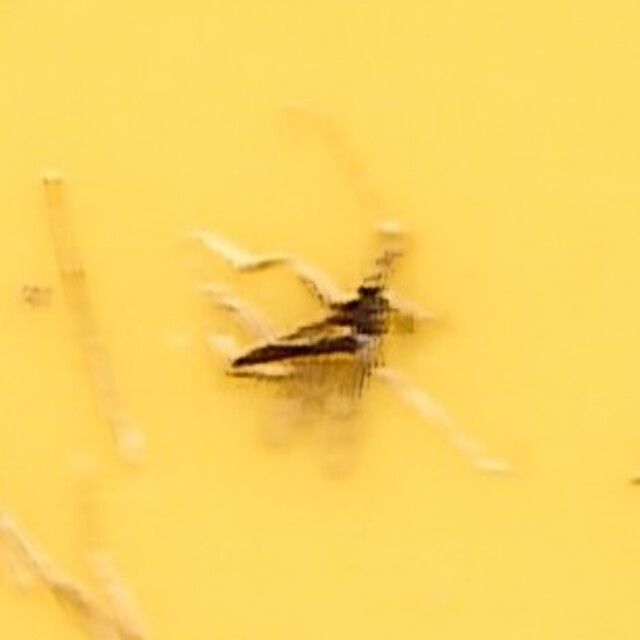Nematocera: (208, 230, 432, 410)
